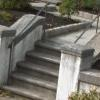stairs: (4, 38, 62, 100)
